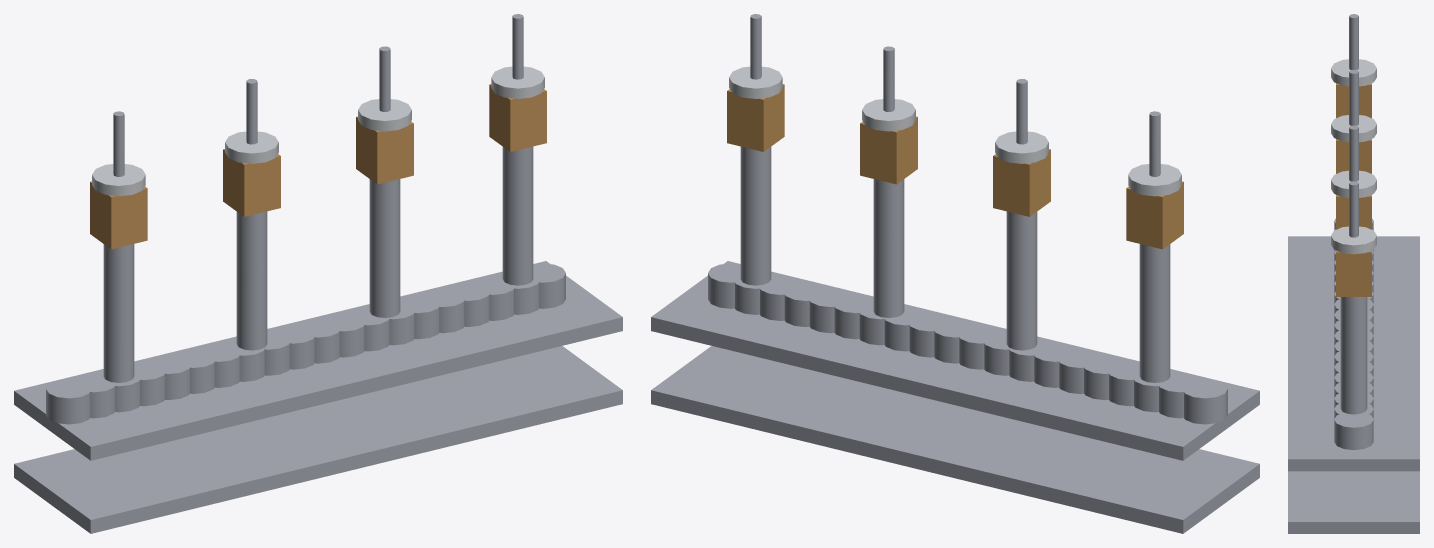
Rendered from manifold.glb.
The picture shows the model from 3 angles, left to right: view 1: azimuth 30°, elevation 25°; view 2: azimuth 150°, elevation 25°; view 3: azimuth 270°, elevation 25°; orthographic projection. The views are drawn at different scales.
Visible parts, largest first — view 1: manifold; view 2: manifold; view 3: manifold.
Part boxes in pixels (left/top/right/bottom): manifold: left=14, top=14, right=622, bottom=533; manifold: left=651, top=14, right=1259, bottom=533; manifold: left=1288, top=14, right=1419, bottom=533.
Bounding box in the file's own units: 3.22 × 2.16 × 0.8.
